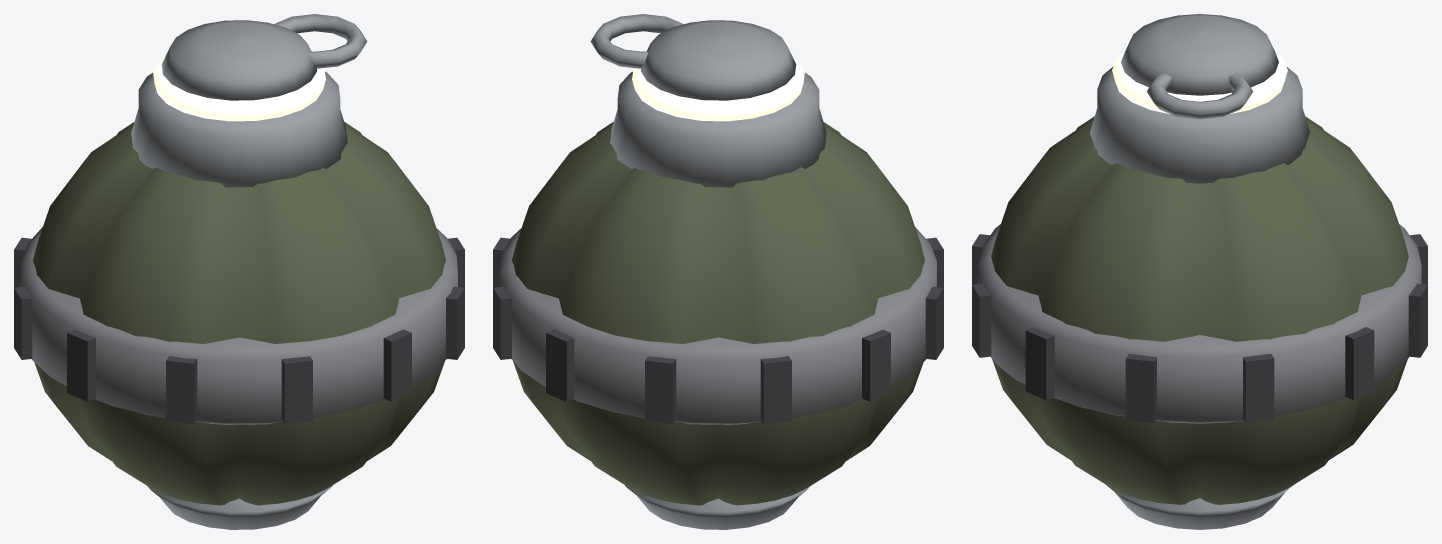
Rendered from SM_SB_FragGrenade.fbx.
3 views of the same model, side by side, from view 1: azimuth 30°, elevation 25°; view 2: azimuth 150°, elevation 25°; view 3: azimuth 270°, elevation 25° (orthographic).
Visible parts, largest first — view 1: SM_SB_FragGrenade; view 2: SM_SB_FragGrenade; view 3: SM_SB_FragGrenade.
Part boxes in pixels (<box>): SM_SB_FragGrenade: <box>14,14,464,529</box>; SM_SB_FragGrenade: <box>493,14,943,529</box>; SM_SB_FragGrenade: <box>972,14,1427,529</box>.
Bounding box in the file's own units: 7.78 × 7.78 × 8.85.
